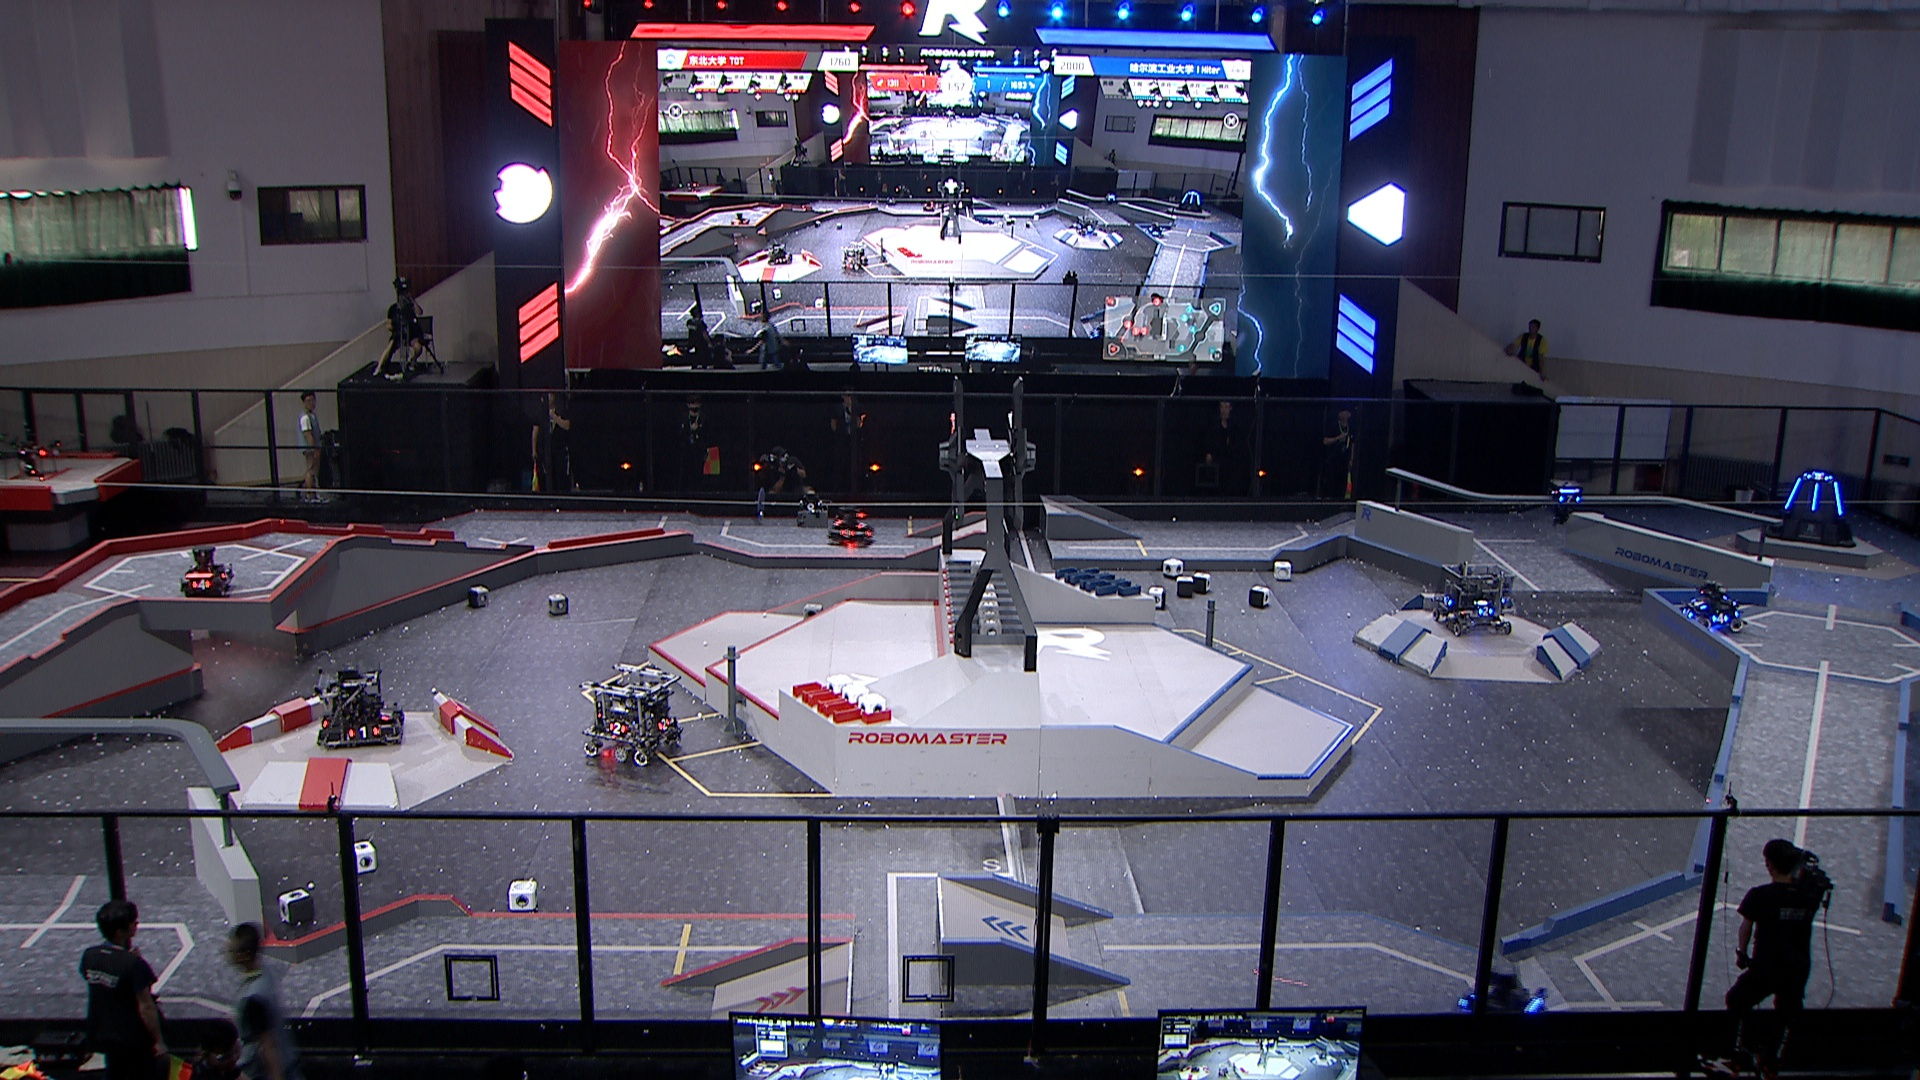armor: (1780, 475, 1807, 510), (1830, 479, 1845, 520), (1807, 480, 1822, 513), (348, 725, 381, 741), (607, 719, 632, 737), (1804, 469, 1832, 483), (1688, 593, 1708, 612), (836, 526, 858, 541), (655, 713, 673, 732), (1556, 493, 1582, 505), (378, 704, 394, 723), (1712, 611, 1730, 626), (189, 579, 214, 589), (390, 712, 404, 732), (1439, 593, 1455, 609), (1476, 605, 1494, 618), (218, 564, 231, 582), (1683, 604, 1695, 621)
base: (1760, 463, 1859, 553)
car: (578, 661, 686, 769), (310, 665, 406, 750), (1455, 960, 1551, 1040), (1432, 560, 1516, 638), (1679, 578, 1745, 636), (178, 541, 237, 600), (823, 501, 880, 549)
ignore: (839, 244, 870, 272), (764, 240, 794, 266), (1176, 189, 1205, 215), (1076, 215, 1097, 237), (728, 211, 752, 229), (1145, 219, 1167, 237), (1102, 191, 1120, 206)
watcher: (1545, 476, 1586, 527)
